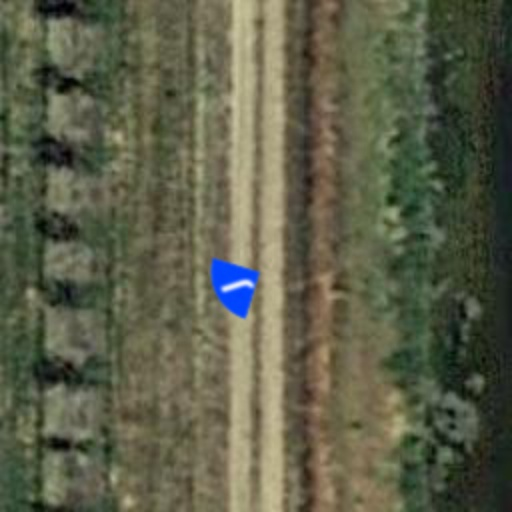quarter_circle: (188, 240, 280, 332)
